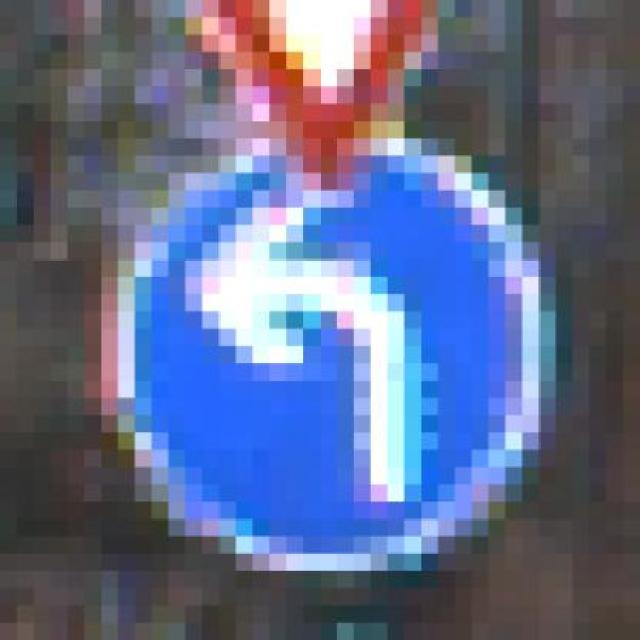Turn left ahead: (101, 137, 539, 588)
